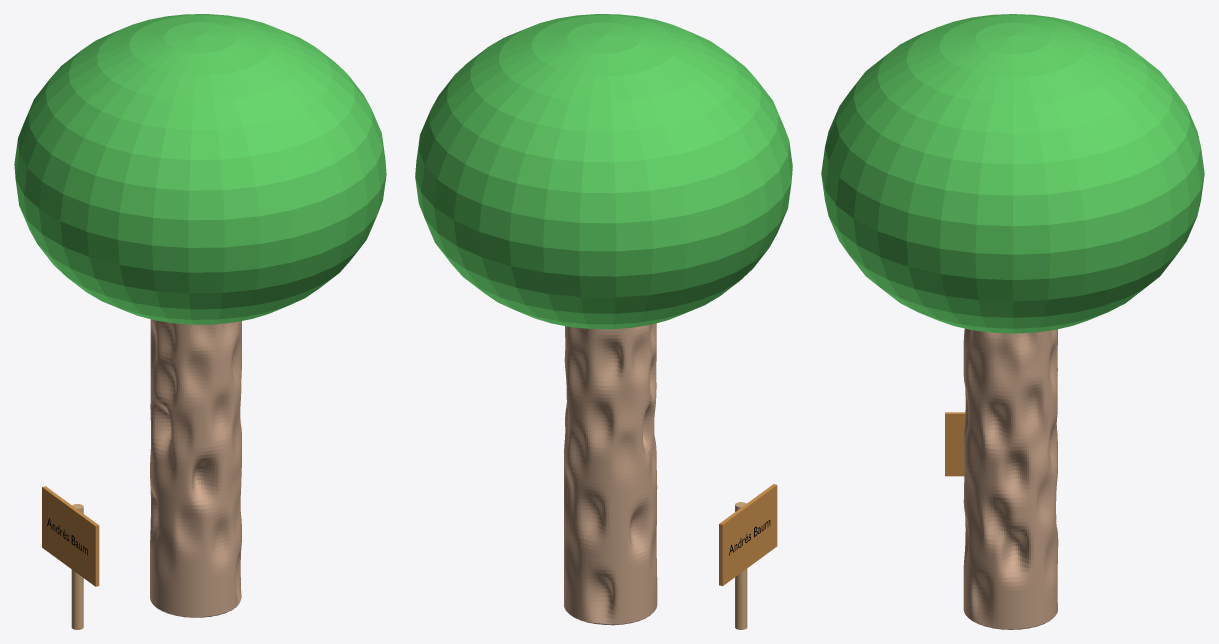
The model's file is Baum_von_Andre.fbx.
3 views of the same model, side by side, from view 1: azimuth 30°, elevation 25°; view 2: azimuth 150°, elevation 25°; view 3: azimuth 270°, elevation 25° (orthographic). The views are drawn at different scales.
Parts seen in each view (by area): view 1: Sphere, Cylinder, Plane, Cylinder.001; view 2: Sphere, Cylinder, Plane, Cylinder.001; view 3: Sphere, Cylinder, Plane.
Part boxes in pixels (left/top/right/bottom): Sphere: left=14, top=14, right=386, bottom=324; Cylinder: left=150, top=319, right=241, bottom=617; Plane: left=42, top=486, right=99, bottom=586; Cylinder.001: left=71, top=504, right=83, bottom=629; Sphere: left=415, top=14, right=792, bottom=329; Cylinder: left=564, top=323, right=657, bottom=625; Plane: left=719, top=484, right=777, bottom=586; Cylinder.001: left=735, top=502, right=747, bottom=629; Sphere: left=821, top=14, right=1204, bottom=333; Cylinder: left=963, top=328, right=1058, bottom=629; Plane: left=945, top=412, right=965, bottom=476.
Bounding box in the file's own units: 695 × 1156 × 695.
